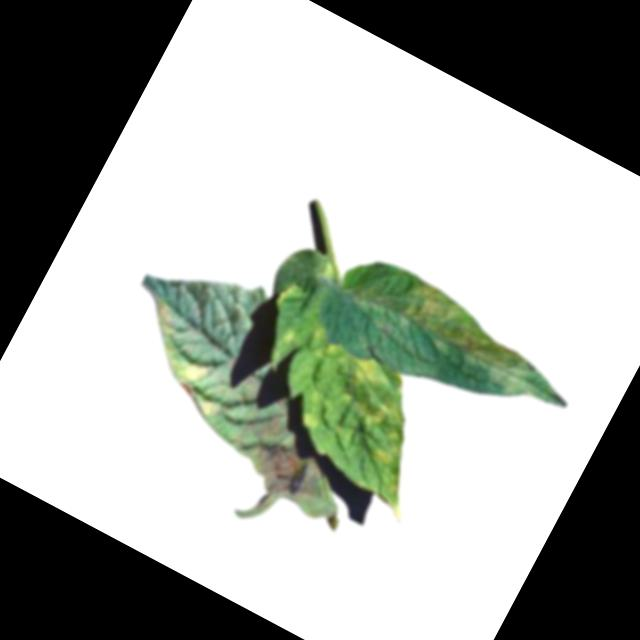Leaf_Mold: (386, 275, 589, 421), (117, 298, 253, 424), (336, 348, 384, 396), (345, 389, 395, 435), (369, 438, 403, 471)
